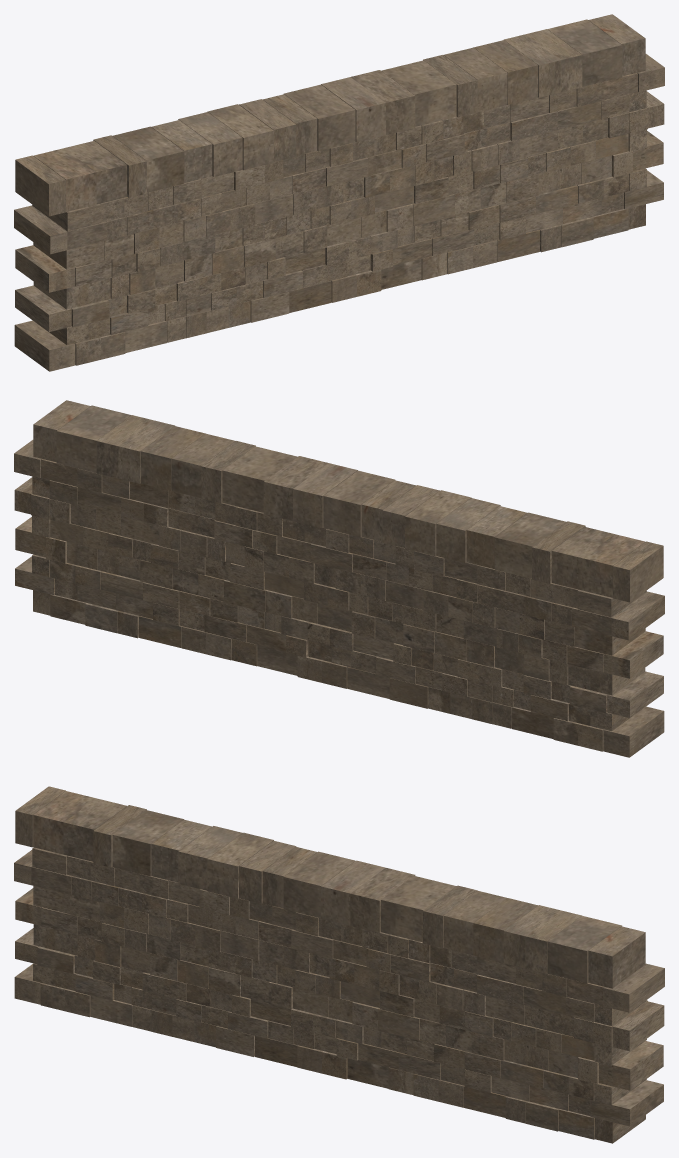
File: wall2.glb
3 renders of one model, top to bottom at view 1: azimuth 30°, elevation 25°; view 2: azimuth 150°, elevation 25°; view 3: azimuth 330°, elevation 25°, orthographic.
Visible parts, largest first — view 1: Wall; view 2: Wall; view 3: Wall.
Part boxes in pixels (left/top/right/bottom): Wall: left=14, top=14, right=664, bottom=371; Wall: left=14, top=400, right=664, bottom=757; Wall: left=14, top=786, right=664, bottom=1143.
Size of the model in its own units: 10.29 by 2.99 by 1.05.
Materials: 1 (1 with a texture image).
